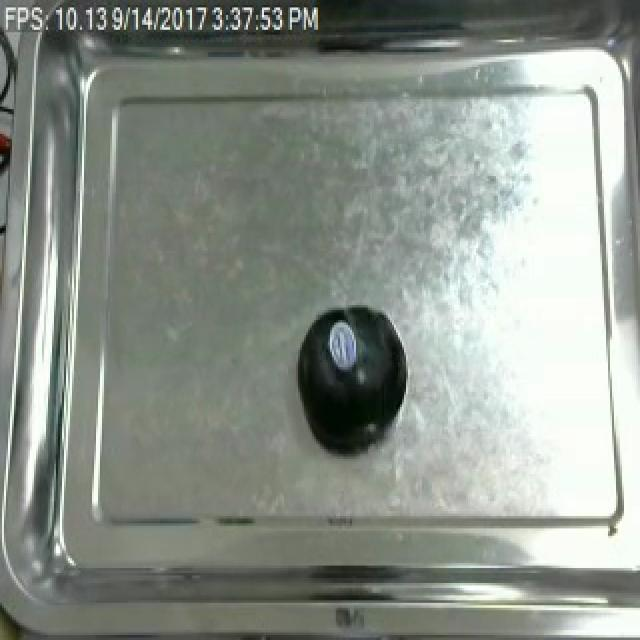Fruit: (290, 305, 406, 452)
